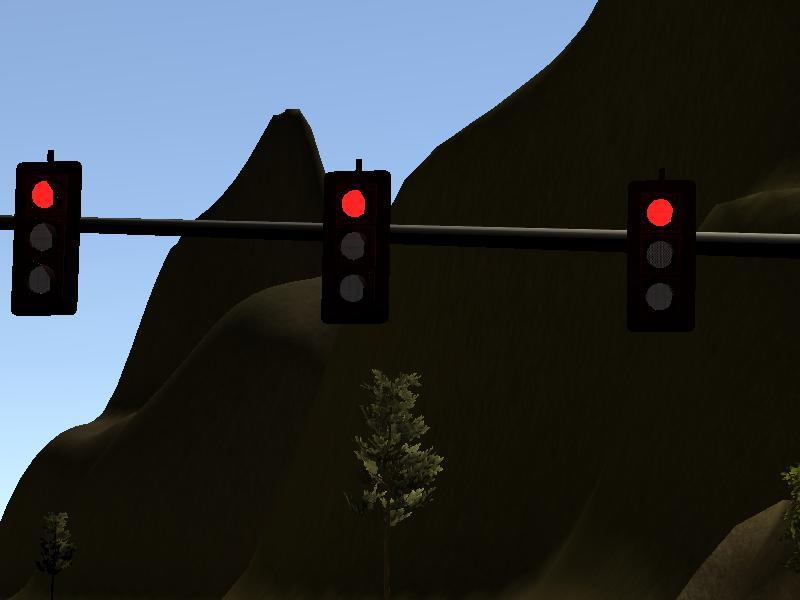Red: (16, 161, 77, 313), (631, 182, 693, 321), (327, 175, 386, 320)
